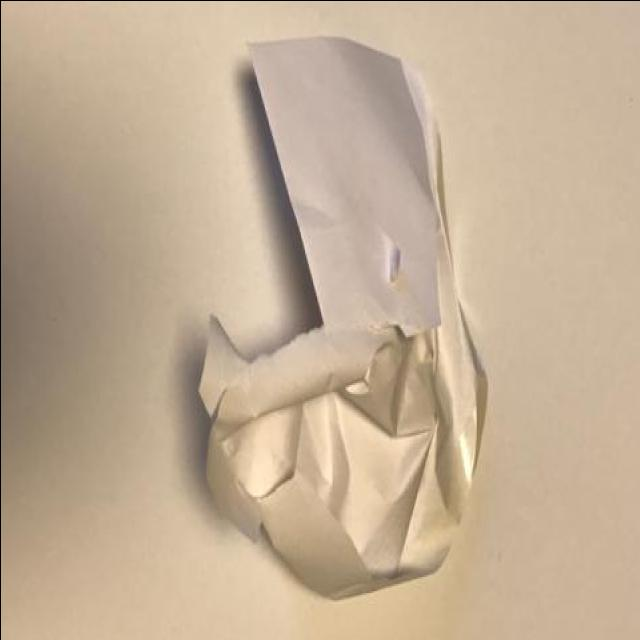kertas: (197, 38, 489, 604)
